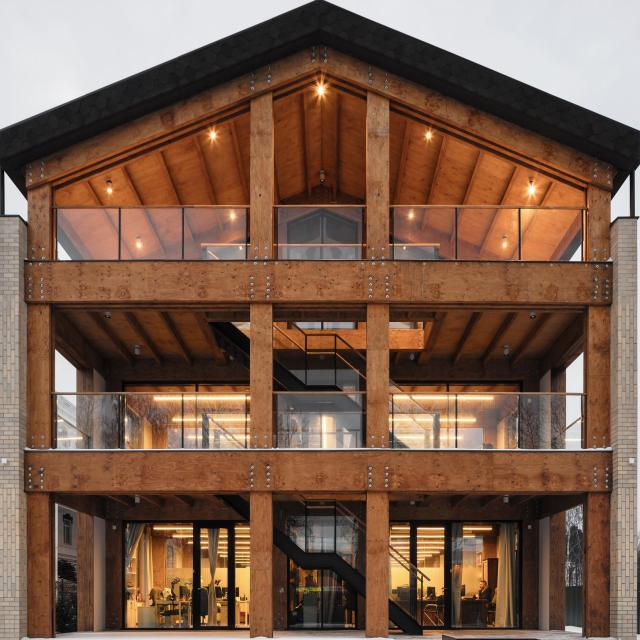door: (190, 521, 238, 631), (408, 526, 454, 634)
railing: (388, 390, 583, 449), (52, 204, 247, 262), (393, 202, 588, 260), (51, 393, 249, 447), (274, 202, 367, 261), (274, 390, 367, 449)
window: (387, 523, 524, 632), (120, 519, 250, 629), (287, 519, 358, 630)
